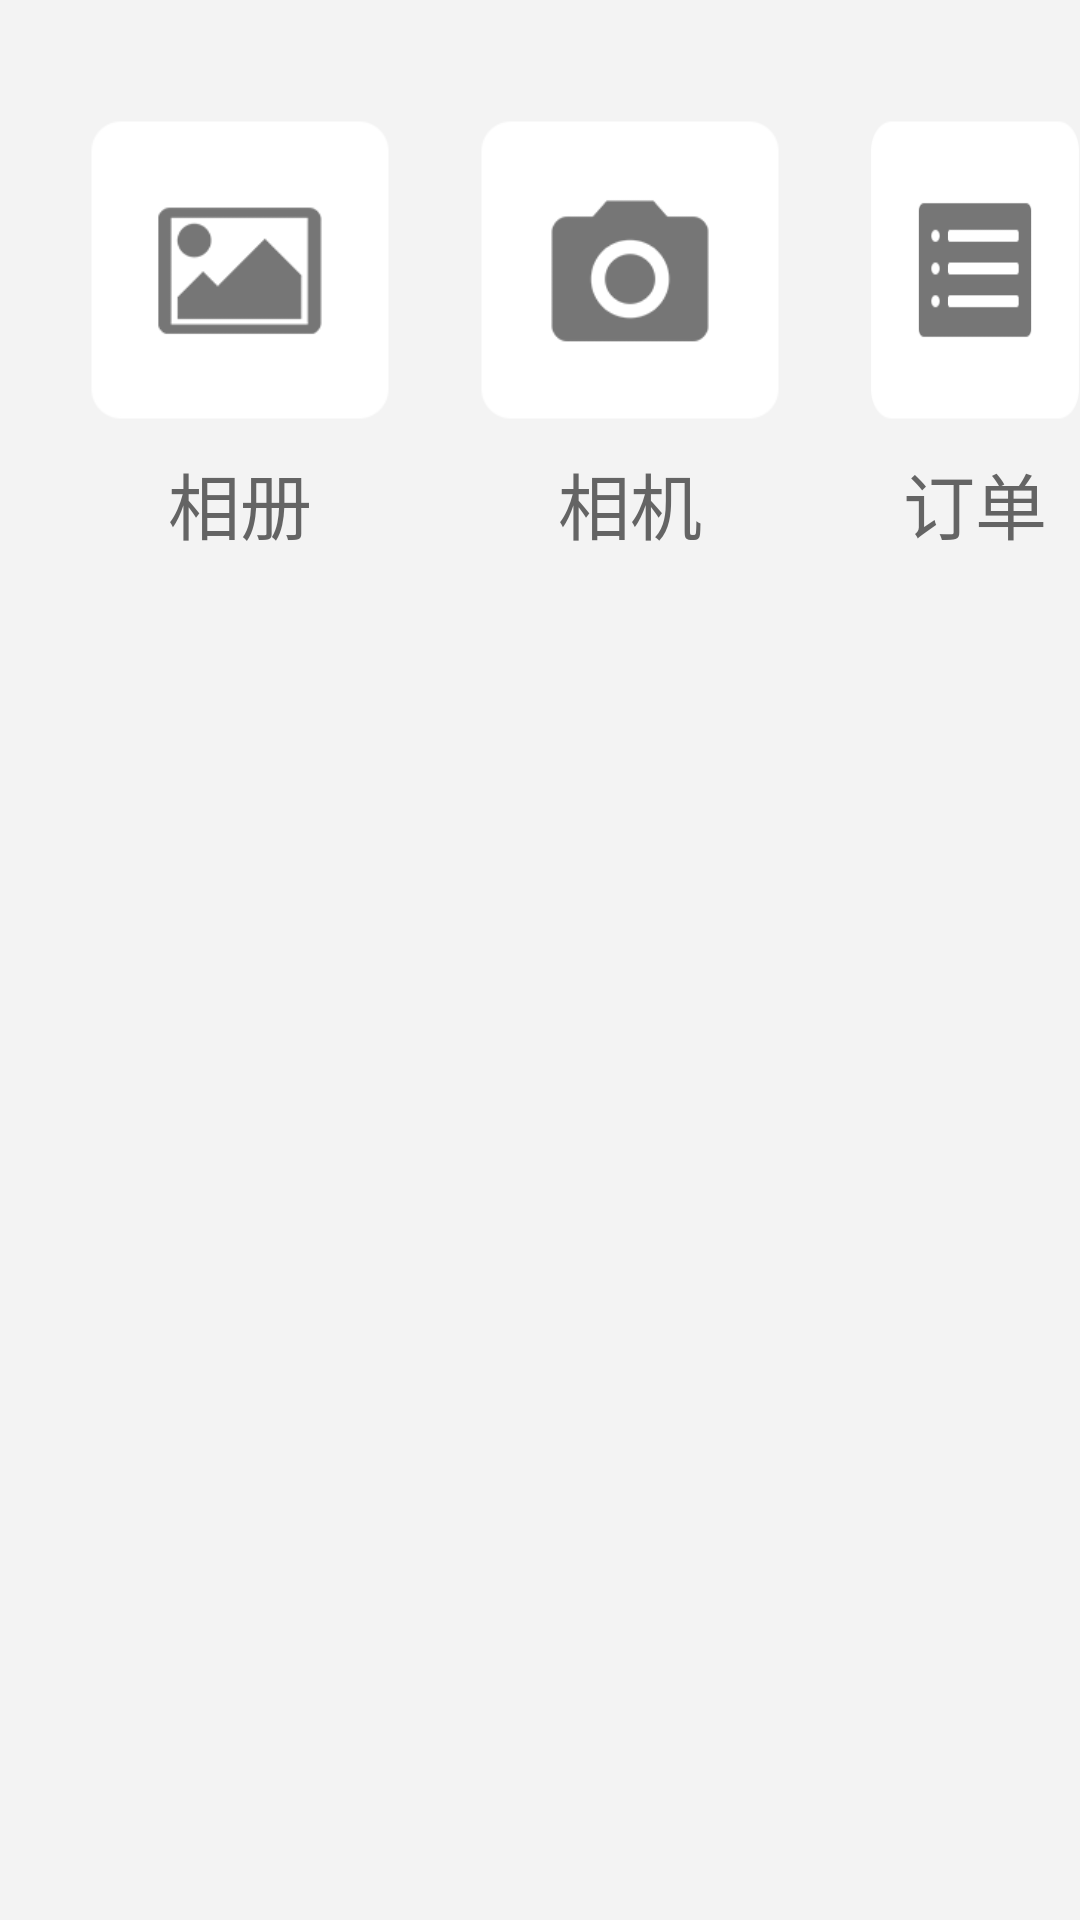

Locate icon controls on the screen. Image size 1080 × 1920, boxes as [x1, y1, x2, y2].
im camera: [551, 200, 709, 342]
im order: [919, 203, 1031, 337]
im picture: [158, 207, 322, 334]
